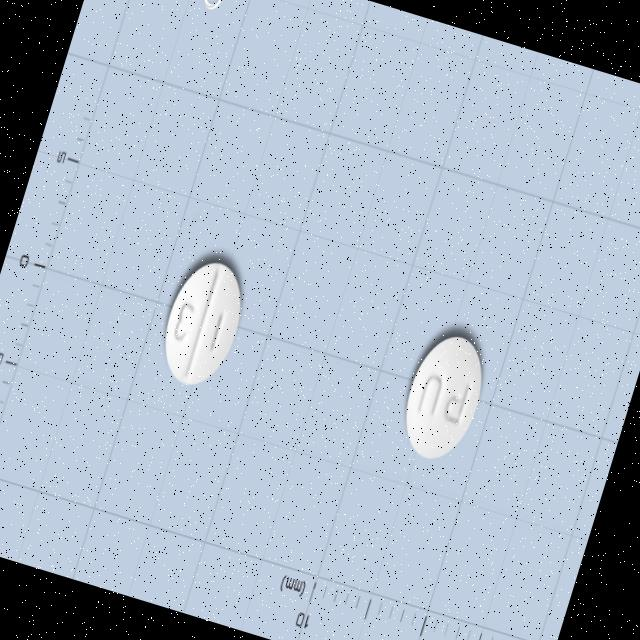Rheumakin Tab: (389, 325, 495, 470), (152, 253, 254, 394)
